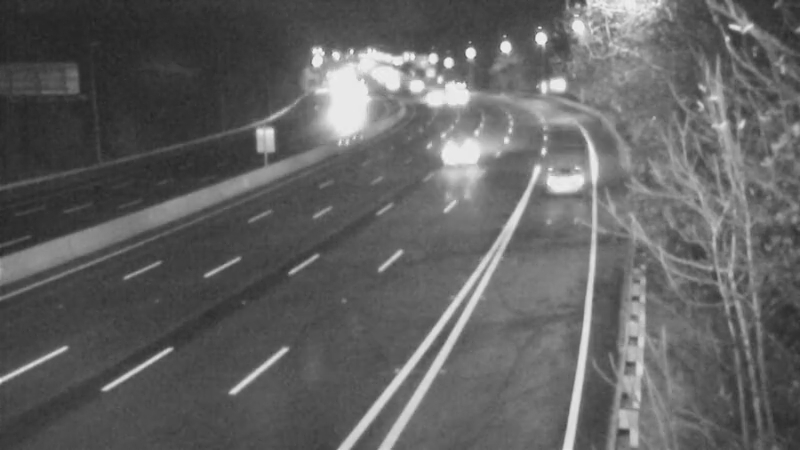vehicle: (412, 117, 492, 197), (515, 141, 595, 221), (390, 60, 440, 110), (405, 75, 455, 125), (430, 74, 480, 124)
